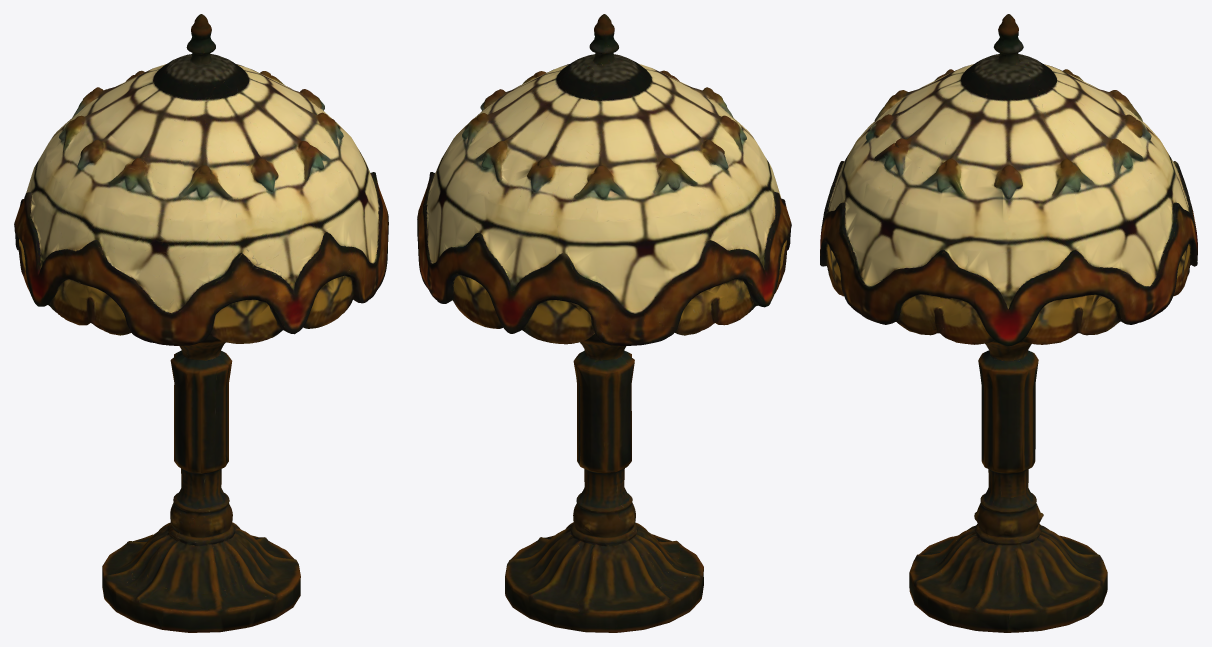
Rendered from stained-glass-table-lamp.glb.
3 renders of one model, left to right at view 1: azimuth 30°, elevation 25°; view 2: azimuth 150°, elevation 25°; view 3: azimuth 270°, elevation 25°, orthographic.
Parts seen in each view (by area): view 1: world; view 2: world; view 3: world.
Part boxes in pixels (x1,y1,x2,y2): world: (14,14,388,632); world: (417,14,791,632); world: (820,14,1197,632).
Bounding box in the file's own units: 0.6008 × 1 × 0.5953.
1 material, 1 textured.
